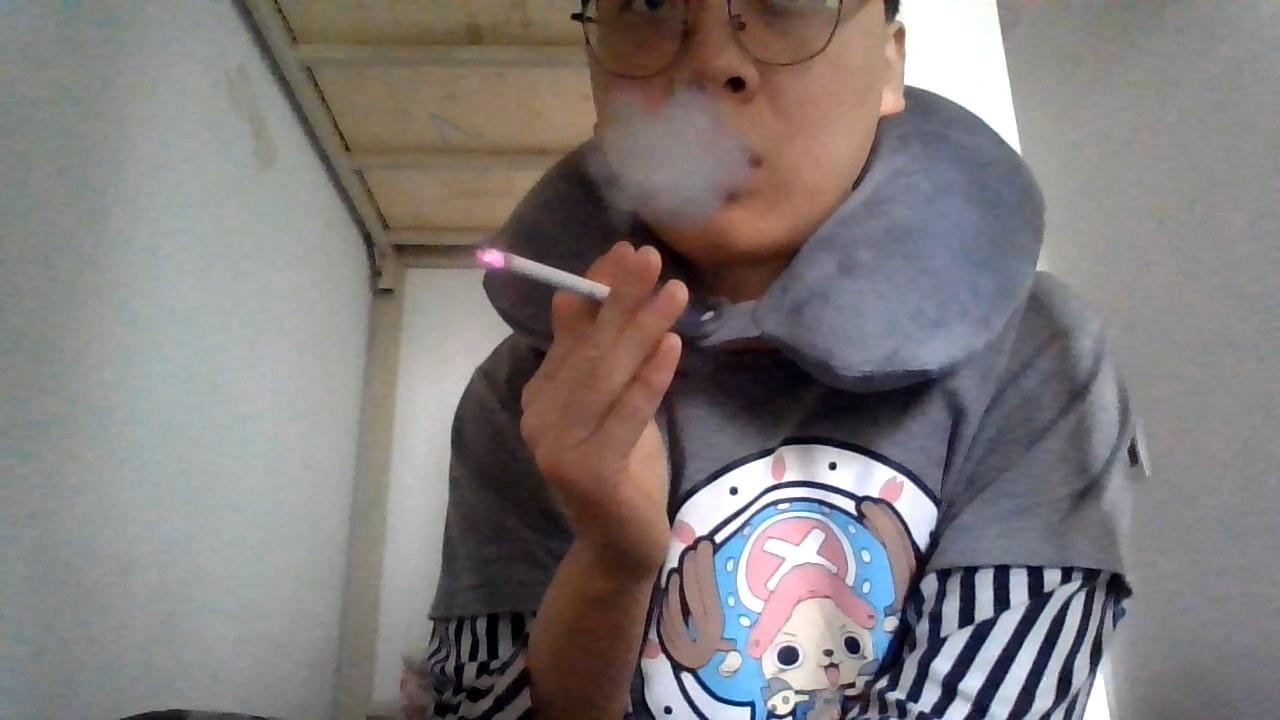smoke: (592, 88, 756, 219)
